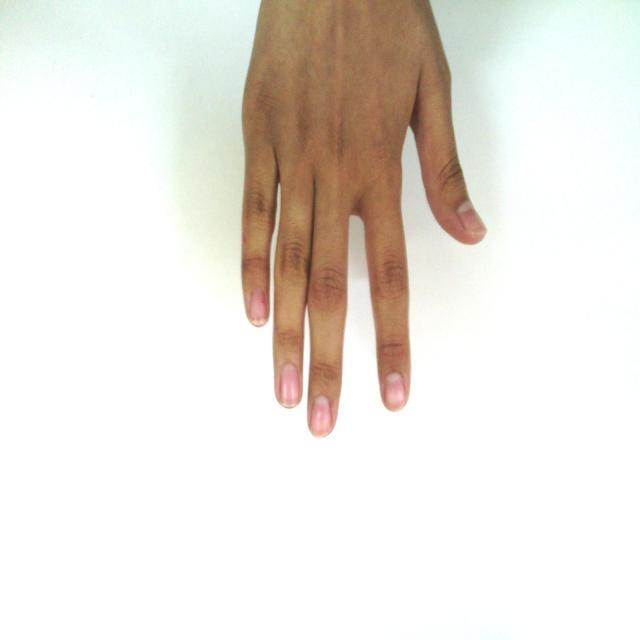Fingernail: (458, 203, 486, 232), (280, 364, 299, 406), (311, 396, 330, 436), (384, 373, 405, 408), (249, 289, 266, 323)
